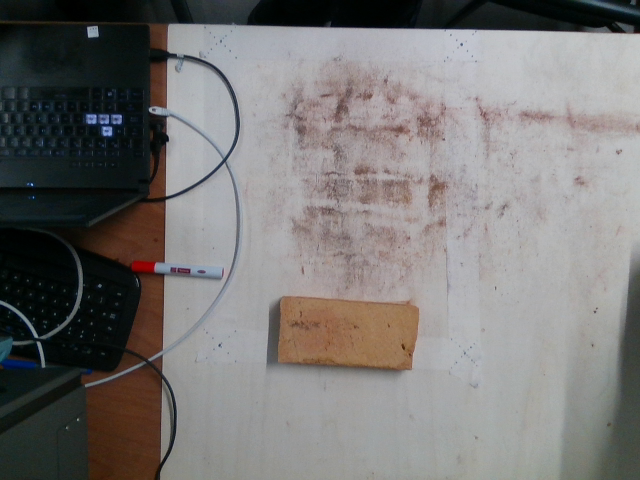brick: (277, 296, 413, 371)
